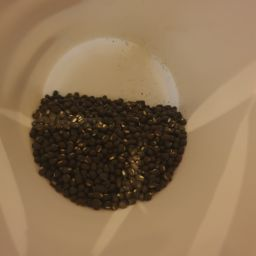Black Gram(urad daal): (21, 86, 193, 222)
